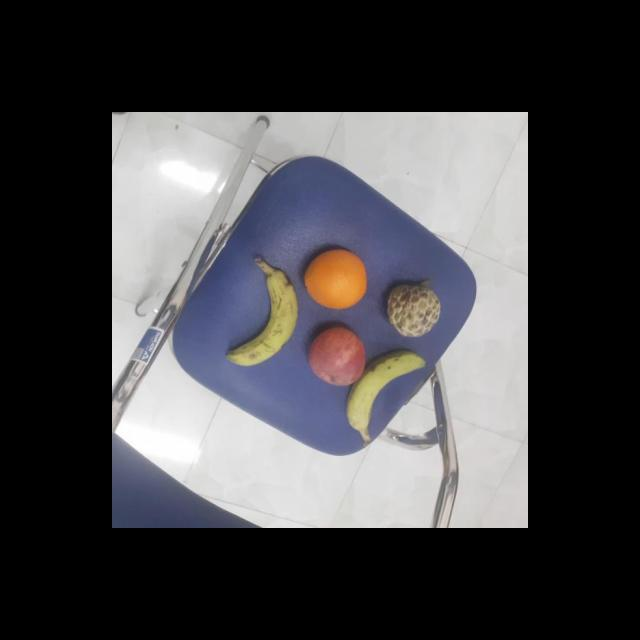Sakya fruit: (386, 278, 443, 338)
apple: (304, 326, 368, 391)
banana: (223, 266, 297, 370), (346, 351, 429, 435)
orange: (304, 246, 368, 311)
